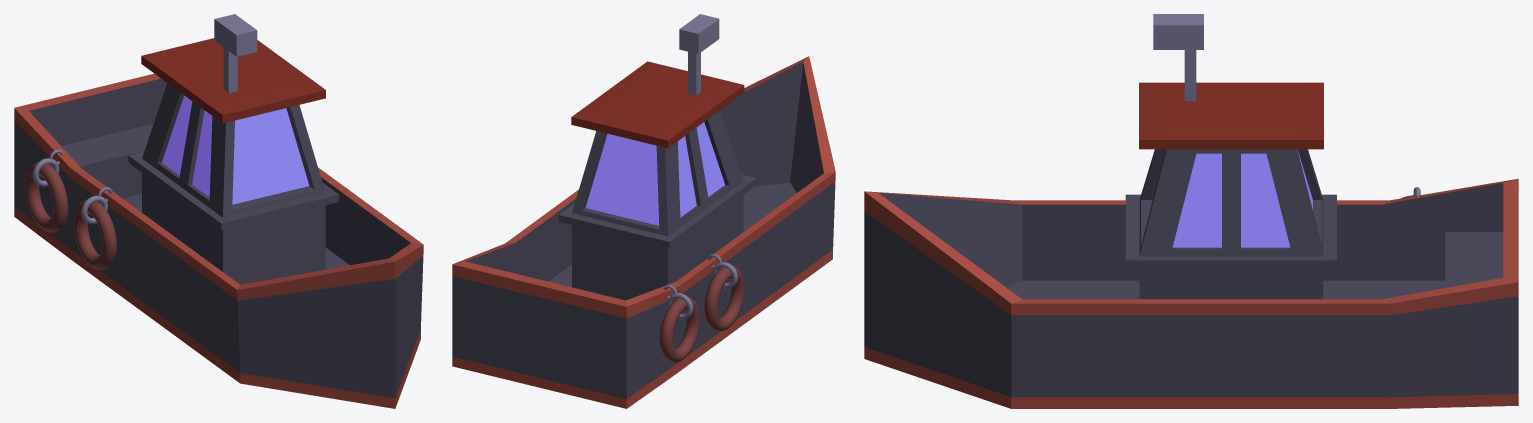
File: boat.glb
The picture shows the model from 3 angles, left to right: view 1: azimuth 30°, elevation 25°; view 2: azimuth 150°, elevation 25°; view 3: azimuth 270°, elevation 25°; orthographic projection. The views are drawn at different scales.
Visible parts, largest first — view 1: Cube, Cube001, Torus005, Torus; view 2: Cube, Cube001, Torus, Torus005; view 3: Cube, Cube001.
Boxes of the visible parts, <box> form: Cube: <box>14,38,423,408</box>; Cube001: <box>214,14,257,93</box>; Torus005: <box>73,199,116,269</box>; Torus: <box>25,162,68,232</box>; Cube: <box>452,56,835,408</box>; Cube001: <box>679,14,719,95</box>; Torus: <box>659,297,700,362</box>; Torus005: <box>704,266,744,331</box>; Cube: <box>864,82,1518,408</box>; Cube001: <box>1153,14,1203,101</box>.
Bounding box in the file's own units: 7.21 × 9.35 × 16.93.
